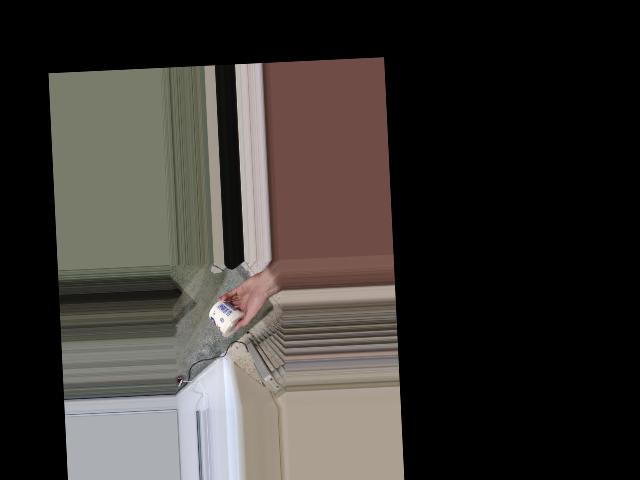cotage: (207, 296, 247, 339)
